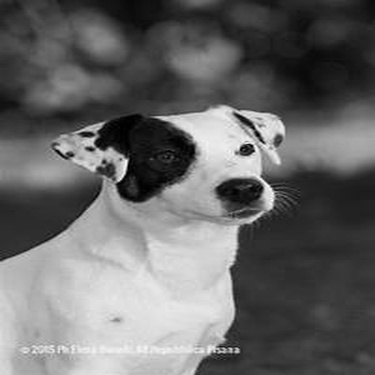dog: (1, 100, 296, 371)
